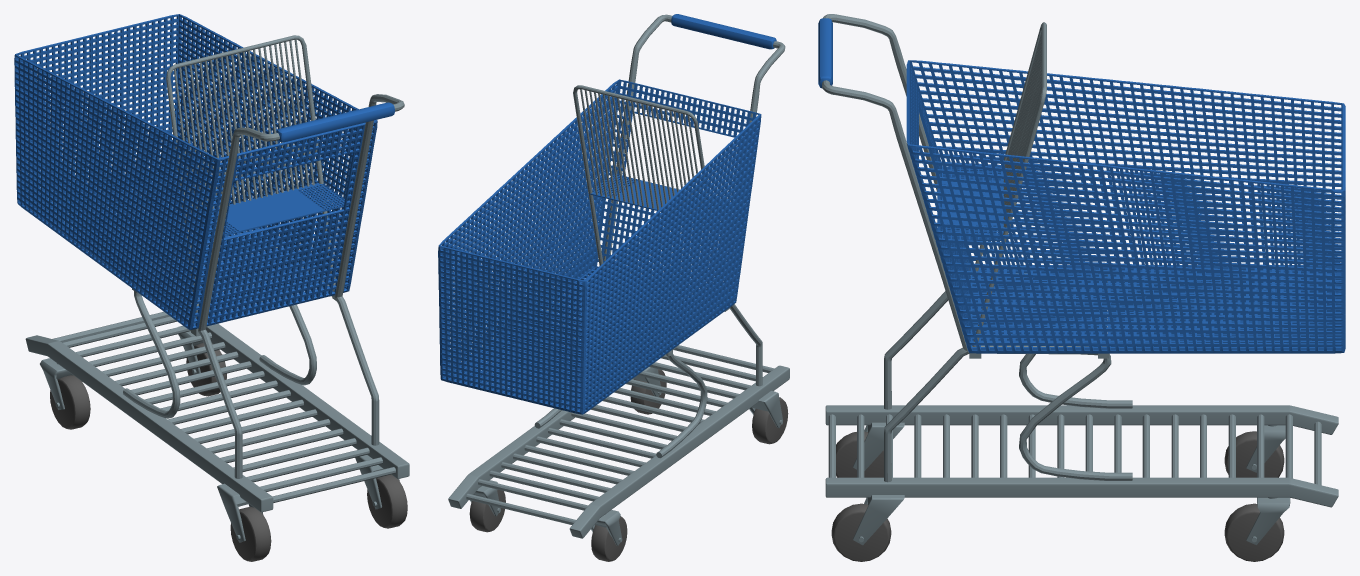
File: Cart-transformed.glb
The picture shows the model from 3 angles, left to right: view 1: azimuth 30°, elevation 25°; view 2: azimuth 150°, elevation 25°; view 3: azimuth 270°, elevation 25°; orthographic projection. The views are drawn at different scales.
Parts seen in each view (by area): view 1: Object_14, Object_10, Object_6, Object_9, Object_3, Object_13, Object_4, Object_2, Object_11, Object_7, Object_8; view 2: Object_14, Object_10, Object_6, Object_9, Object_3, Object_11, Object_4, Object_13, Object_7, Object_2, Object_8; view 3: Object_5, Object_14, Object_7, Object_10, Object_8, Object_13, Object_11, Object_3, Object_9, Object_2, Object_6.
Boxes of the visible parts, <box> form: Object_14: <box>25,35,409,542</box>; Object_10: <box>14,14,377,329</box>; Object_6: <box>14,25,367,329</box>; Object_9: <box>15,16,373,288</box>; Object_3: <box>15,14,394,301</box>; Object_13: <box>50,343,407,561</box>; Object_4: <box>14,19,376,328</box>; Object_2: <box>18,45,356,323</box>; Object_11: <box>117,79,330,294</box>; Object_7: <box>17,19,372,321</box>; Object_8: <box>40,170,345,325</box>; Object_14: <box>448,14,789,545</box>; Object_10: <box>438,79,760,414</box>; Object_6: <box>439,82,761,411</box>; Object_9: <box>439,80,749,409</box>; Object_3: <box>439,14,776,391</box>; Object_11: <box>532,120,716,346</box>; Object_4: <box>438,91,749,412</box>; Object_13: <box>469,369,788,561</box>; Object_7: <box>441,86,757,410</box>; Object_2: <box>441,125,745,407</box>; Object_8: <box>449,267,705,405</box>; Object_5: <box>908,145,1344,353</box>; Object_14: <box>822,14,1338,545</box>; Object_7: <box>909,60,1342,267</box>; Object_10: <box>907,62,1345,353</box>; Object_8: <box>971,267,1335,349</box>; Object_13: <box>831,431,1284,561</box>; Object_11: <box>1012,73,1124,350</box>; Object_3: <box>818,18,1345,328</box>; Object_9: <box>909,68,1345,350</box>; Object_2: <box>924,113,1342,341</box>; Object_6: <box>908,60,1345,345</box>.
Size of the model in its own units: 7.34 by 18.41 by 18.45.
